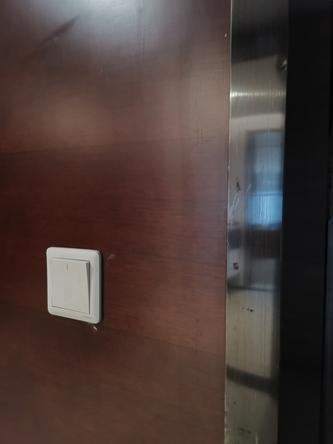switch: (49, 252, 97, 314)
